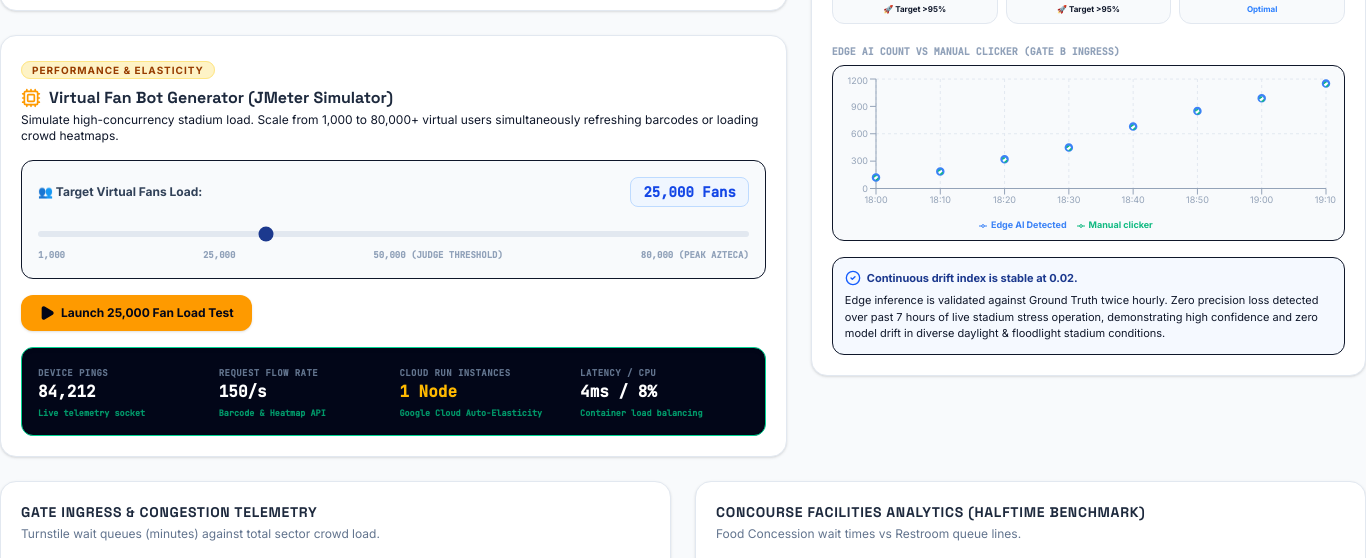
AnalyticsPanel Component Suite › Runs load test and increases metrics
The image size is (1366, 558).
(page scrolled)
Click the button "Launch 25,000 Fan Load Test": (136, 313) [21,295,252,331]
Wait 150 ms
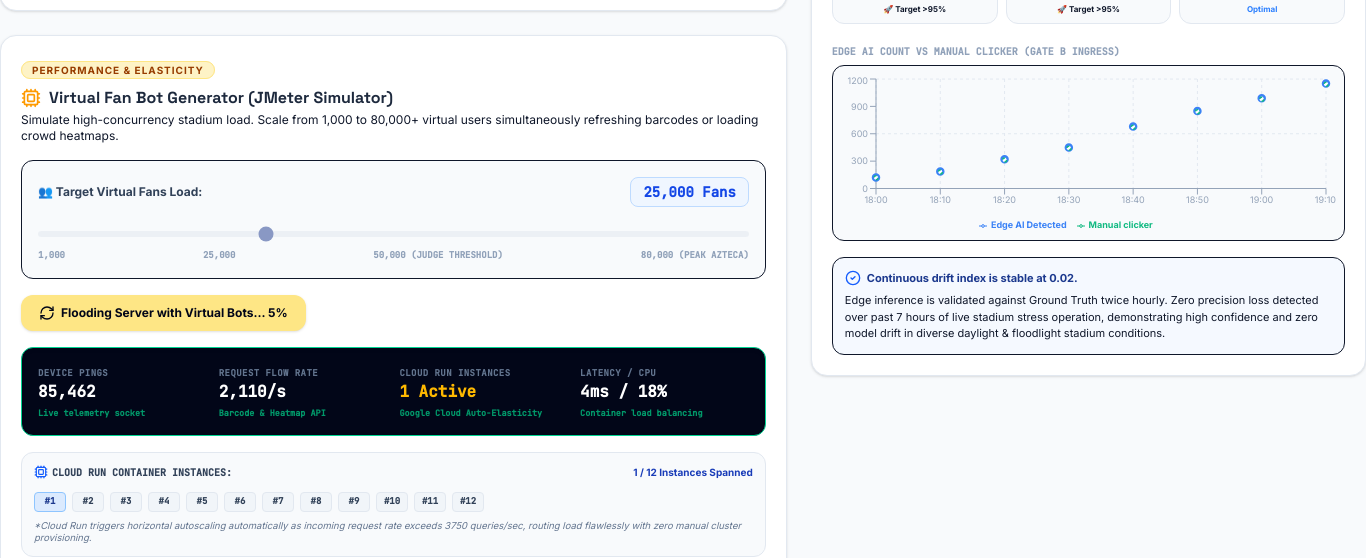
Now the button "Flooding Server with Virtual Bots... 5%" is shown, box [21,295,306,331]
